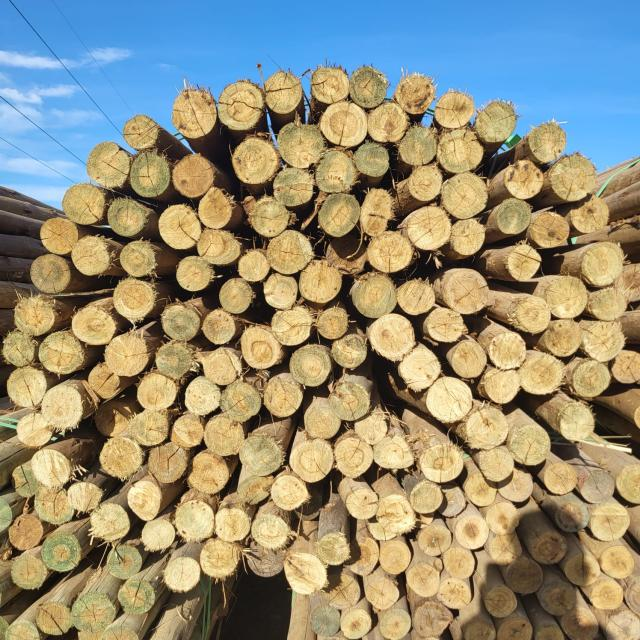package: (12, 63, 622, 585), (295, 457, 637, 638), (3, 428, 212, 635)
